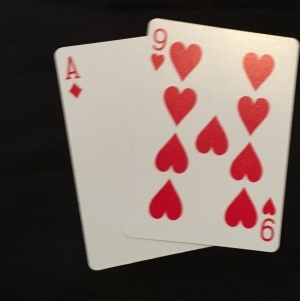card: (123, 16, 299, 254), (54, 37, 146, 264)
